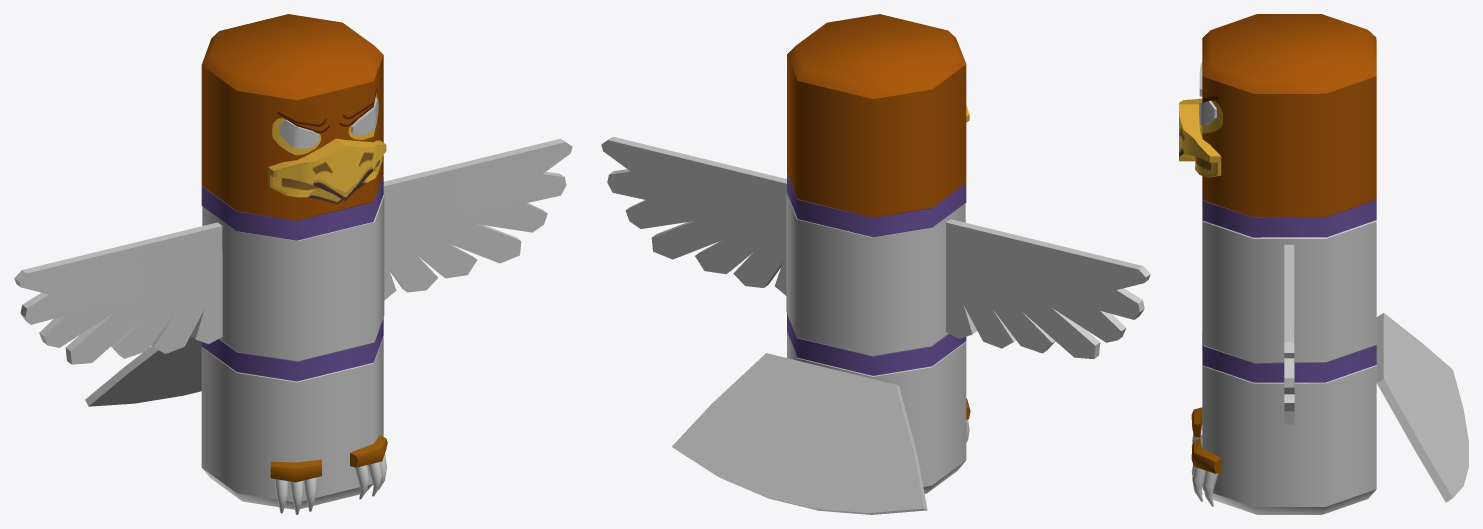
Rendered from totem_aguila.fbx.
3 renders of one model, left to right at view 1: azimuth 30°, elevation 25°; view 2: azimuth 150°, elevation 25°; view 3: azimuth 270°, elevation 25°, orthographic. The views are drawn at different scales.
Visible parts, largest first — view 1: Cube, Circle.005, Circle.003, Circle.002, Cube.007, Cube.002, Circle.001, Circle.006, Circle, Cube.006, Cube.001; view 2: Cube, Circle.005, Cube.002, Circle.002, Circle.003, Circle.001, Circle.006; view 3: Circle.005, Circle.003, Circle.002, Cube.002, Circle.001, Circle.006, Cube.007, Cube, Cube.006, Circle, Cube.001.
Boxes of the visible parts, x1,y1,x2,y2 form: Cube: (14,139,572,364); Circle.005: (201,14,383,220); Circle.003: (201,337,383,509); Circle.002: (202,195,384,361); Cube.007: (268,138,386,204); Cube.002: (85,336,201,406); Circle.001: (201,176,383,240); Circle.006: (201,318,383,381); Circle: (274,454,386,514); Cube.006: (270,435,387,482); Cube.001: (279,98,378,148); Cube: (601,137,1150,359); Circle.005: (787,14,966,217); Cube.002: (672,353,927,514); Circle.002: (786,193,965,356); Circle.003: (787,332,966,493); Circle.001: (787,173,966,237); Circle.006: (787,314,966,375); Circle.005: (1202,14,1376,217); Circle.003: (1202,351,1376,514); Circle.002: (1202,206,1376,363); Cube.002: (1376,313,1468,502); Circle.001: (1202,186,1376,237); Circle.006: (1202,331,1376,382); Cube.007: (1179,98,1221,177); Cube: (1284,244,1294,424); Cube.006: (1191,407,1221,473); Circle: (1191,425,1218,506); Cube.001: (1199,62,1216,125).
Size of the model in its own units: 975 by 713 by 431.
